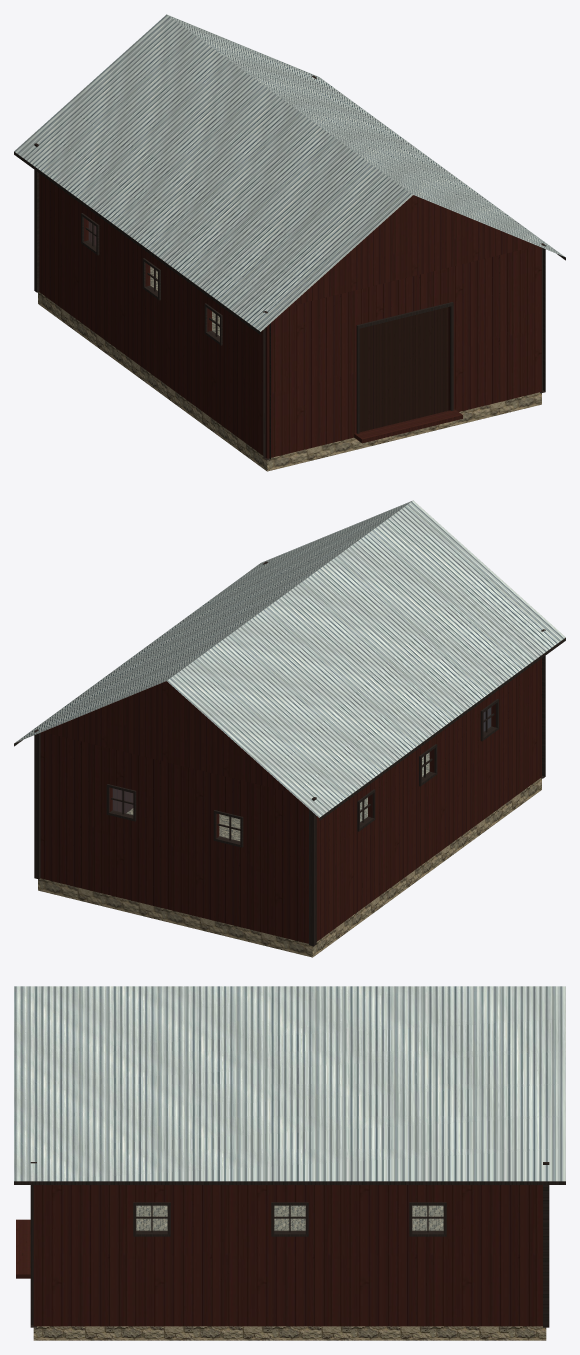
The model's file is barn_01.glb.
3 renders of one model, top to bottom at view 1: azimuth 30°, elevation 25°; view 2: azimuth 150°, elevation 25°; view 3: azimuth 270°, elevation 25°, orthographic. The views are drawn at different scales.
Visible parts, largest first — view 1: barn_01; view 2: barn_01; view 3: barn_01.
Part boxes in pixels (x1,y1,x2,y2): barn_01: [14, 14, 565, 471]; barn_01: [14, 500, 565, 957]; barn_01: [14, 986, 565, 1340].
Bounding box in the file's own units: 10 × 7.81 × 14.
Materials: 6 (5 with a texture image).
